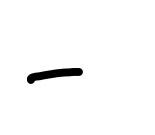minus: (27, 66, 83, 84)
